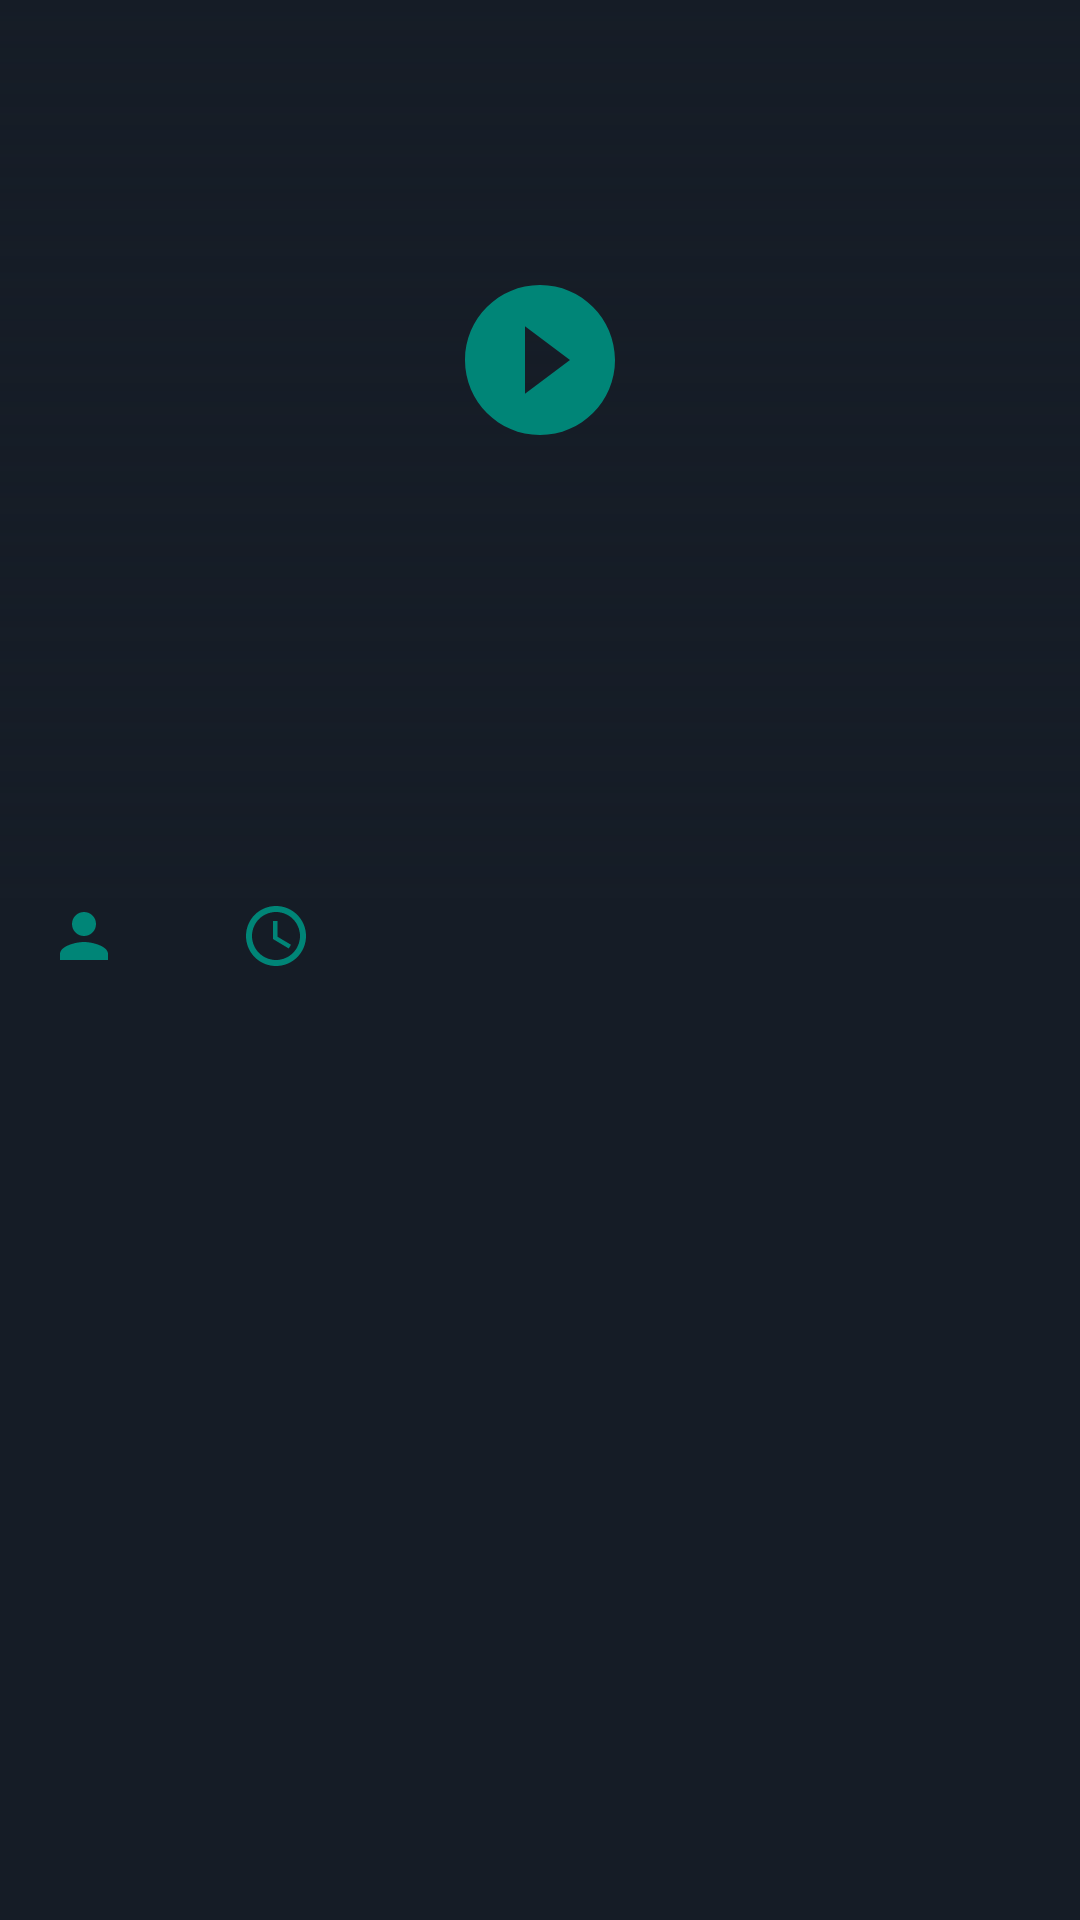

Named icons in this screenshot (1080 × 1920) and their centers, point (x, y):
play circle: point (540, 360)
